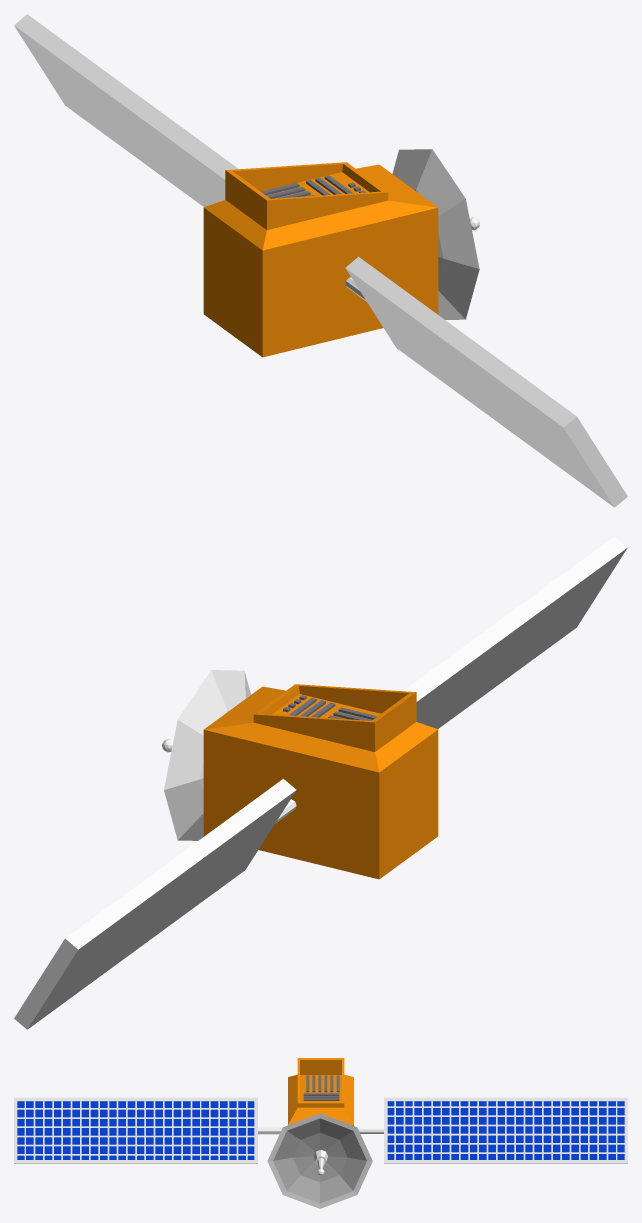
Rendered from Satellite3.glb.
3 views of the same model, one above another, from view 1: azimuth 30°, elevation 25°; view 2: azimuth 150°, elevation 25°; view 3: azimuth 270°, elevation 25° (orthographic). The views are drawn at different scales.
Parts seen in each view (by area): view 1: Satellite3-main, Satellite3-PanelRight, Satellite3-PanelLeft, Satellite3-head.001, Satellite3-buttons; view 2: Satellite3-main, Satellite3-PanelLeft, Satellite3-PanelRight, Satellite3-head.001, Satellite3-buttons; view 3: Satellite3-PanelRight, Satellite3-PanelLeft, Satellite3-head.001, Satellite3-main, Satellite3-buttons.
Boxes of the visible parts, box(x1,y1,x2,y2) form: Satellite3-main: box(203, 162, 438, 357); Satellite3-PanelRight: box(345, 256, 627, 507); Satellite3-PanelLeft: box(14, 14, 238, 206); Satellite3-head.001: box(392, 149, 479, 319); Satellite3-buttons: box(261, 175, 365, 198); Satellite3-main: box(203, 684, 438, 879); Satellite3-PanelLeft: box(14, 778, 296, 1029); Satellite3-PanelRight: box(403, 536, 627, 728); Satellite3-head.001: box(162, 670, 250, 840); Satellite3-buttons: box(283, 695, 377, 720); Satellite3-PanelRight: box(14, 1097, 282, 1163); Satellite3-PanelLeft: box(358, 1097, 627, 1163); Satellite3-head.001: box(267, 1113, 372, 1208); Satellite3-main: box(288, 1058, 353, 1125); Satellite3-buttons: box(303, 1075, 339, 1100).
Bounding box in the file's own units: 4.81 × 3.36 × 18.63.
